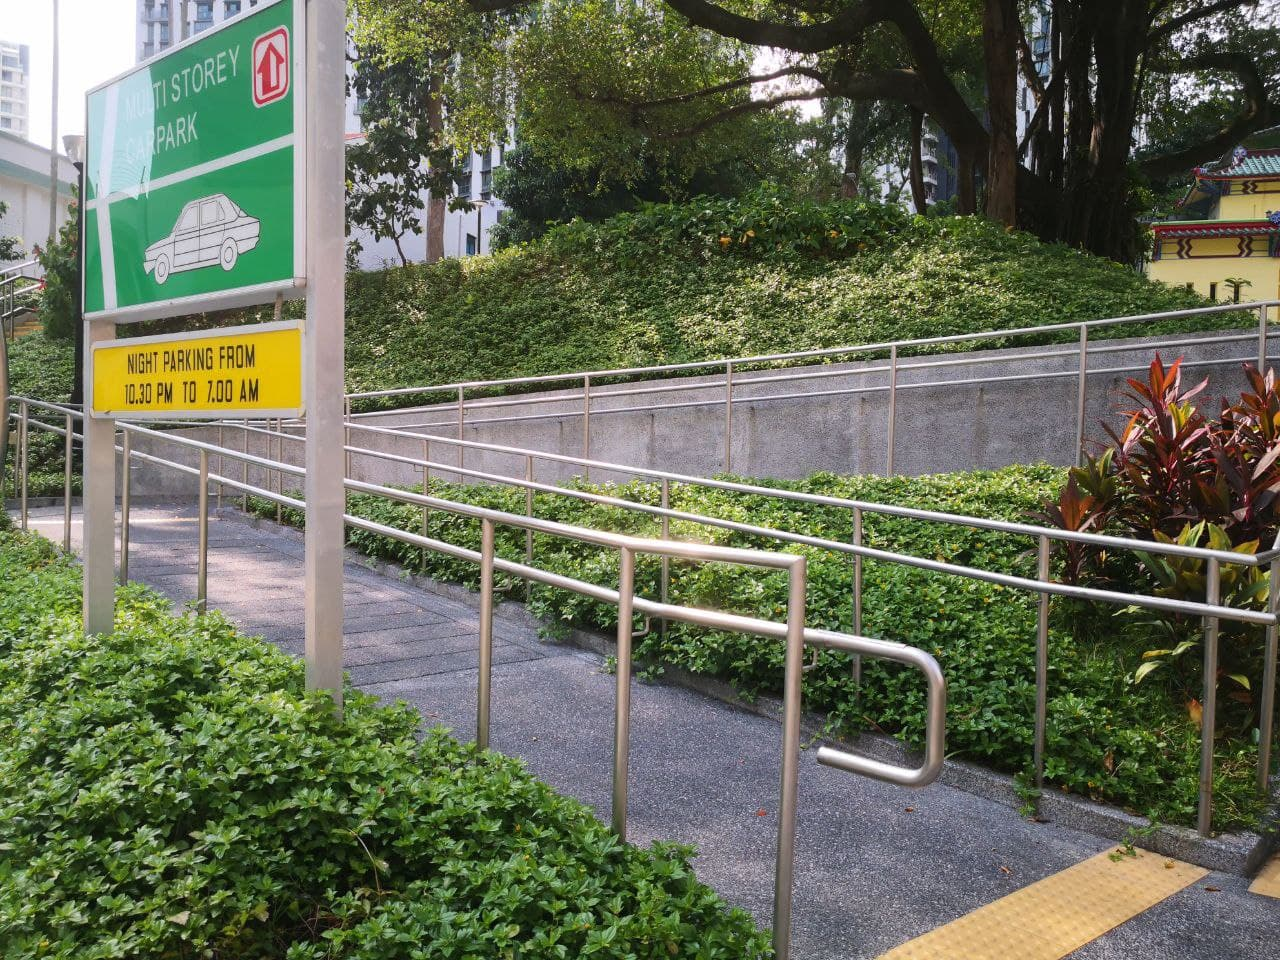slopes: (10, 379, 1279, 944), (59, 268, 1280, 516)
